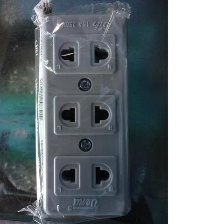three_eye_plug: (30, 3, 134, 224)
